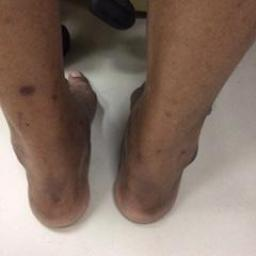Back View -Both Feet-: (6, 58, 230, 236)
